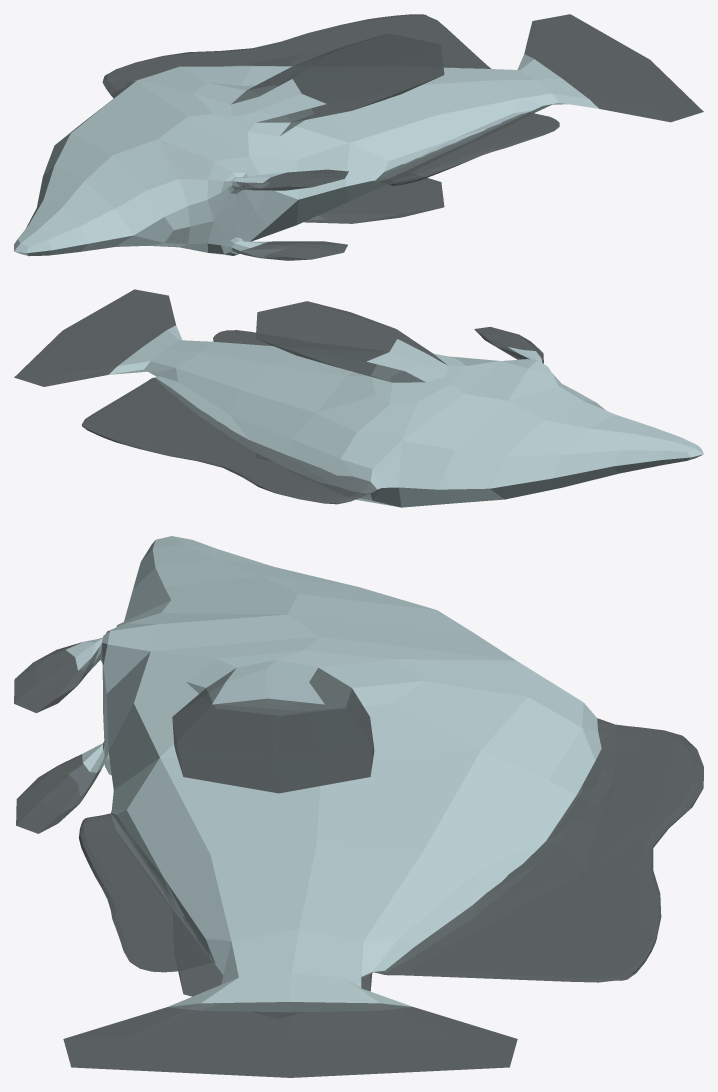
Rendered from Fish.fbx.
3 views of the same model, one above another, from view 1: azimuth 30°, elevation 25°; view 2: azimuth 150°, elevation 25°; view 3: azimuth 270°, elevation 25° (orthographic). The views are drawn at different scales.
Visible parts, largest first — view 1: Fish; view 2: Fish; view 3: Fish.
Boxes of the visible parts, bbox=[...] form: Fish: bbox=[14, 14, 703, 260]; Fish: bbox=[14, 289, 703, 507]; Fish: bbox=[14, 536, 703, 1077].
Size of the model in its own units: 525 by 102 by 284.
